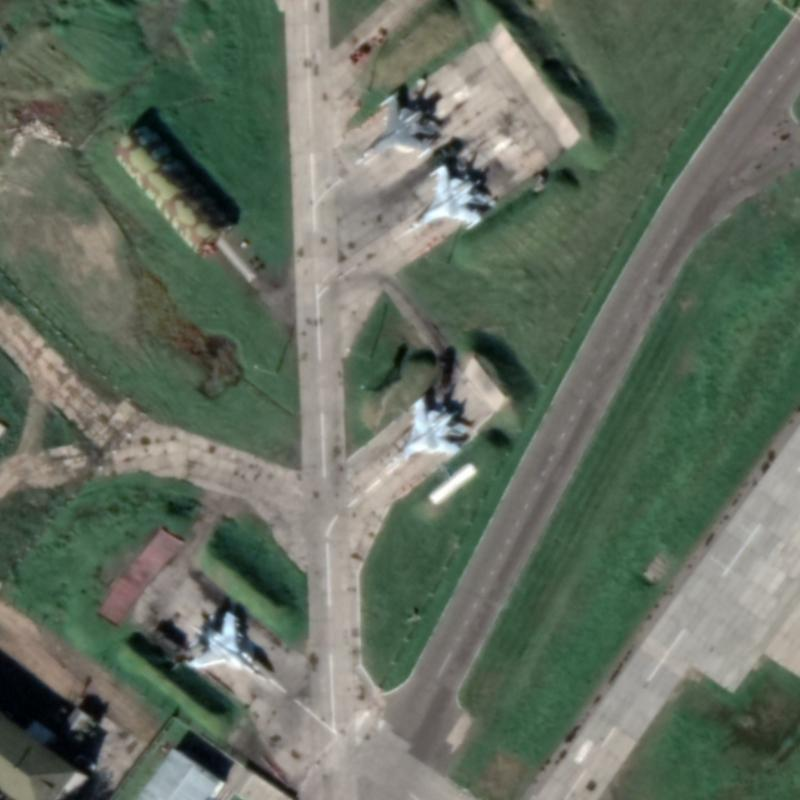A1: (178, 609, 273, 681), (354, 88, 436, 164), (387, 393, 466, 466), (409, 161, 484, 233)
